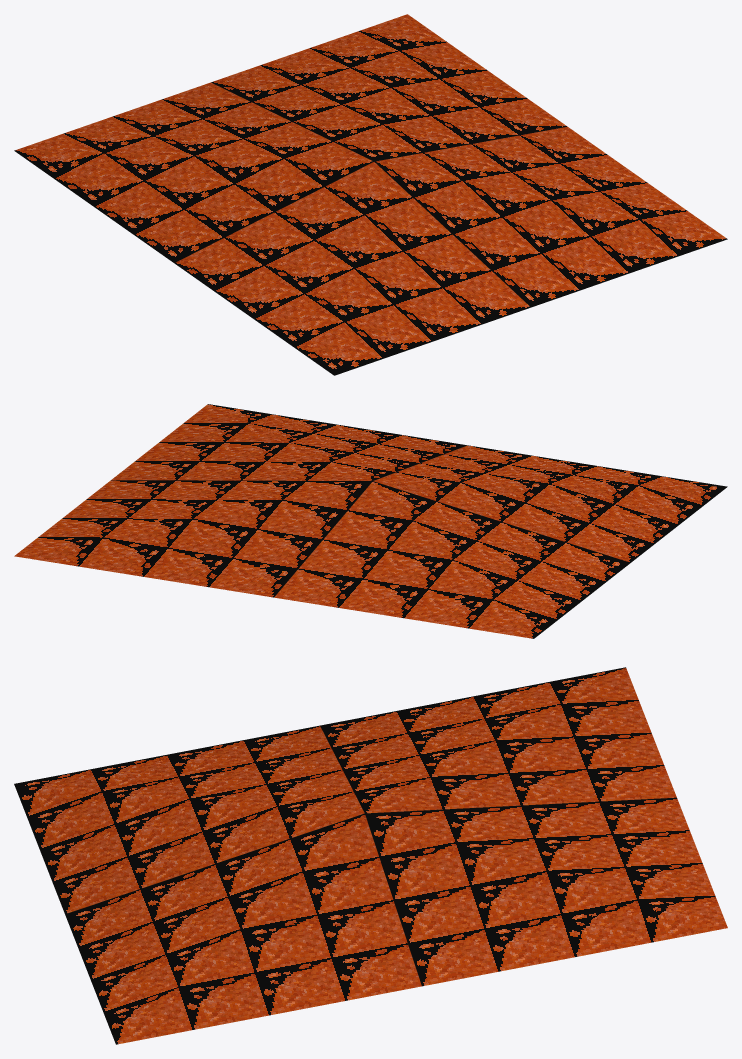
The model's file is 1089item560.gltf.
3 views of the same model, one above another, from view 1: azimuth 30°, elevation 25°; view 2: azimuth 150°, elevation 25°; view 3: azimuth 270°, elevation 25° (orthographic). The views are drawn at different scales.
Visible parts, largest first — view 1: 1089item560; view 2: 1089item560; view 3: 1089item560.
Boxes of the visible parts, x1,y1,x2,y2 form: 1089item560: [14, 14, 727, 375]; 1089item560: [14, 404, 727, 638]; 1089item560: [14, 667, 727, 1044].
Size of the model in its own units: 0.5018 by 0.0616 by 0.4988.
1 material, 1 textured.
